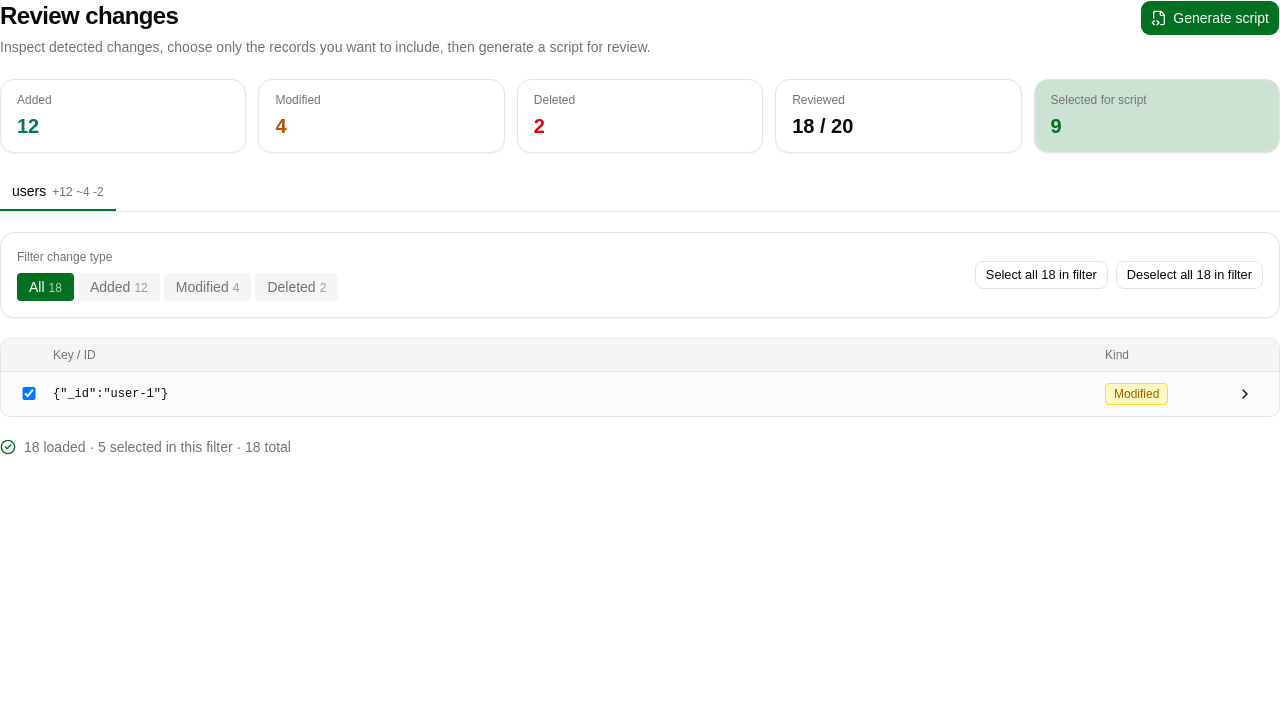
Scenario: DiffViewScreen › removes the record diff portal after the dialog closes
The image size is (1280, 720).
Click the button named "View field diff for {\"_id\":\"user-1\"}". click: {"x": 1245, "y": 394}
box: [1231, 380, 1259, 408]
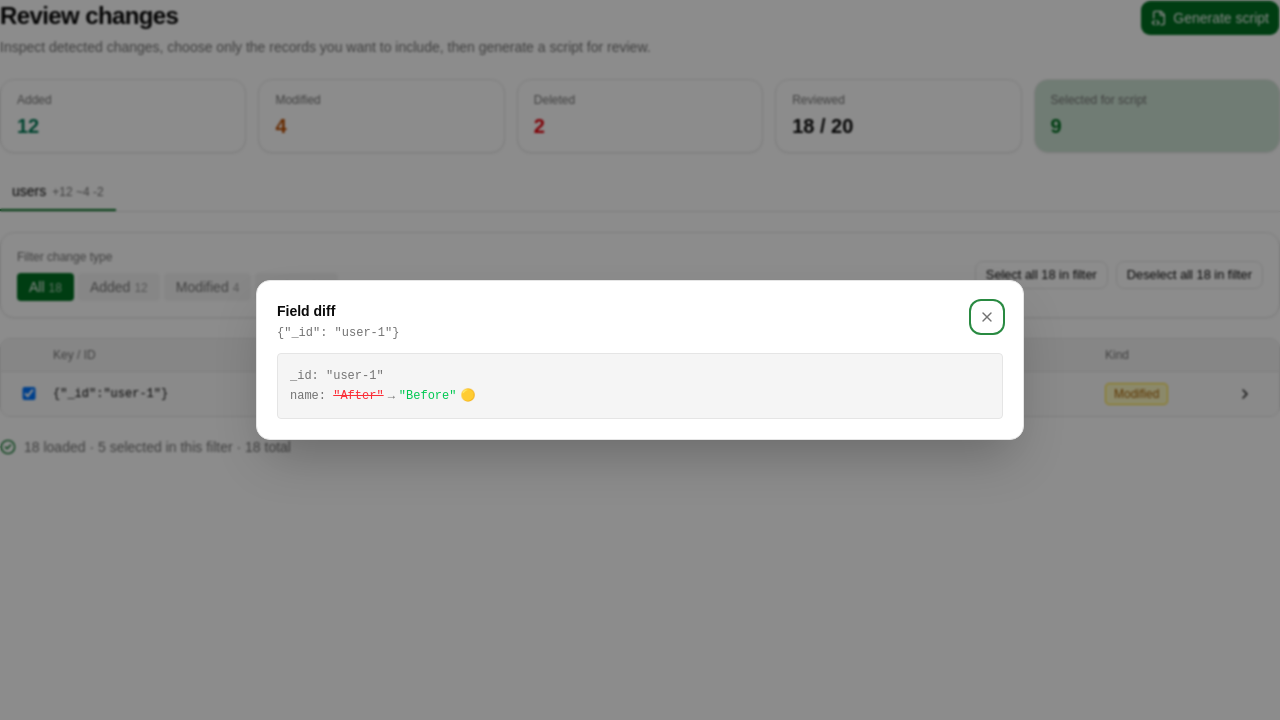
Click the button named "close document diff". click: {"x": 987, "y": 317}
box: [971, 301, 1003, 333]
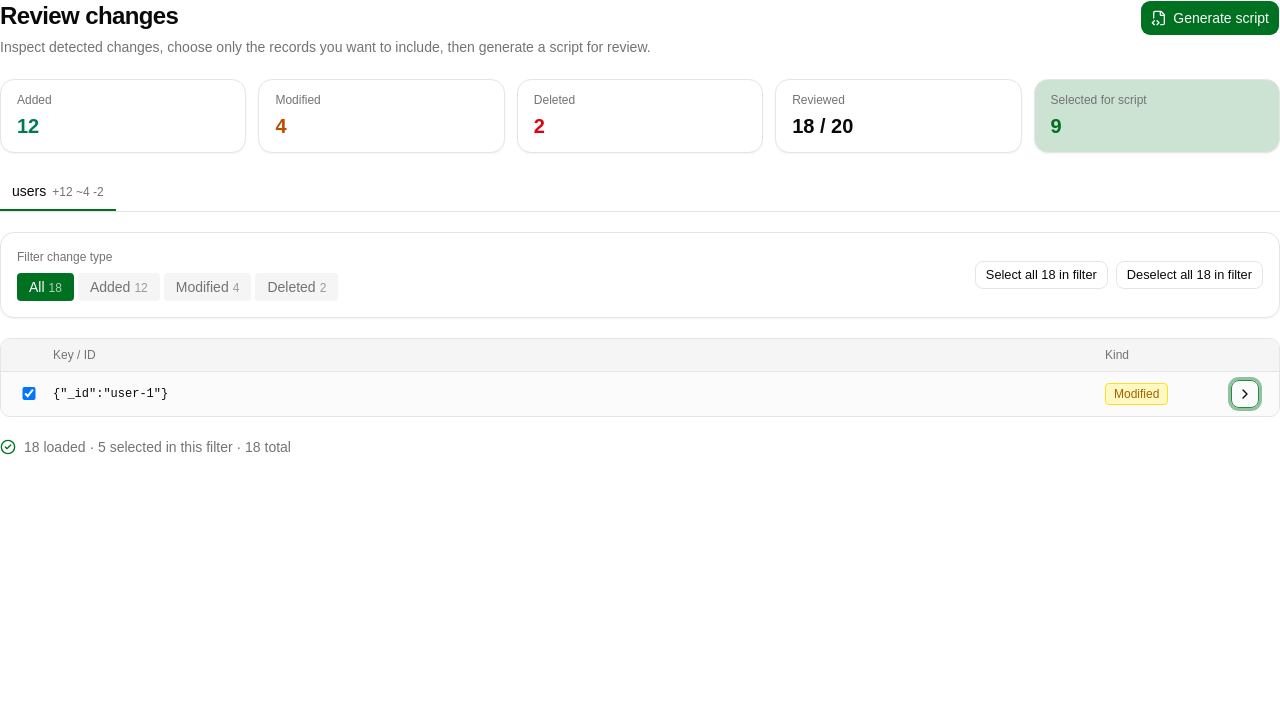
Check: the dialog is gone
